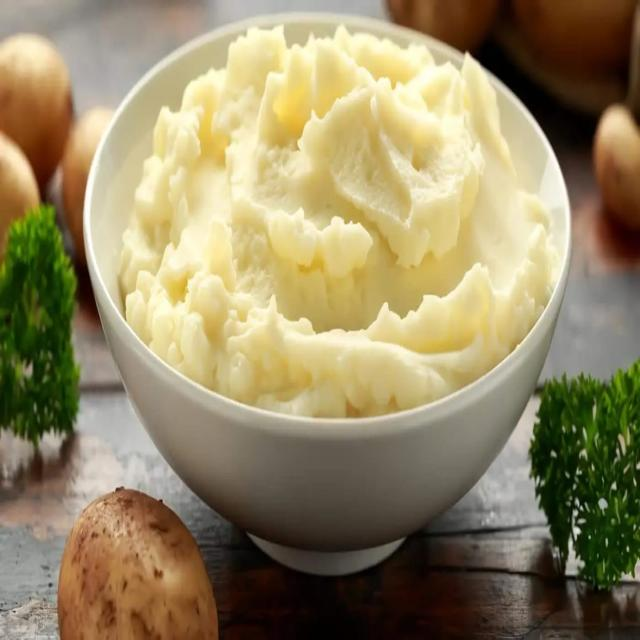papa: (126, 9, 561, 417)
